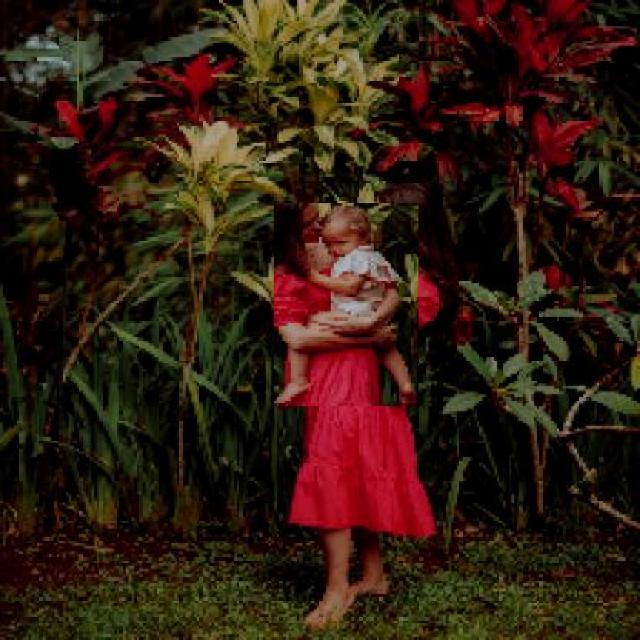child: (272, 203, 418, 408)
